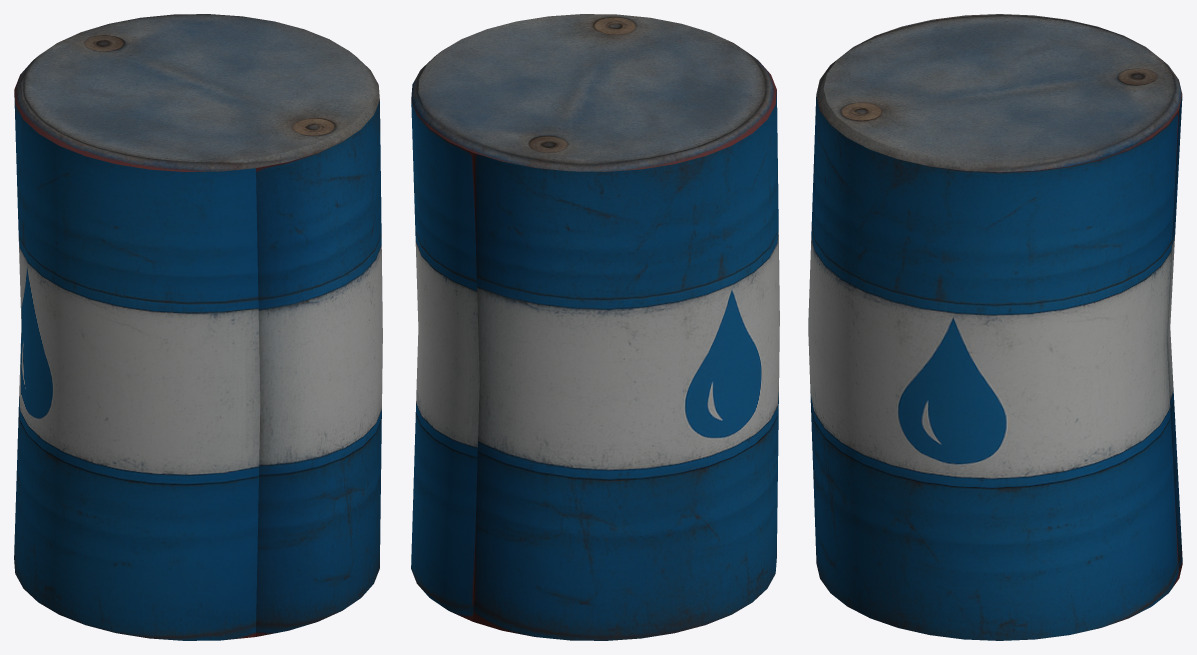
Rendered from WaterBarrel.fbx.
3 renders of one model, left to right at view 1: azimuth 30°, elevation 25°; view 2: azimuth 150°, elevation 25°; view 3: azimuth 270°, elevation 25°, orthographic.
Parts seen in each view (by area): view 1: Hazmat Barrel; view 2: Hazmat Barrel; view 3: Hazmat Barrel.
Boxes of the visible parts, x1,y1,x2,y2 form: Hazmat Barrel: [14, 14, 382, 640]; Hazmat Barrel: [411, 14, 779, 640]; Hazmat Barrel: [808, 14, 1182, 640].
Size of the model in its own units: 192 by 275 by 197.
